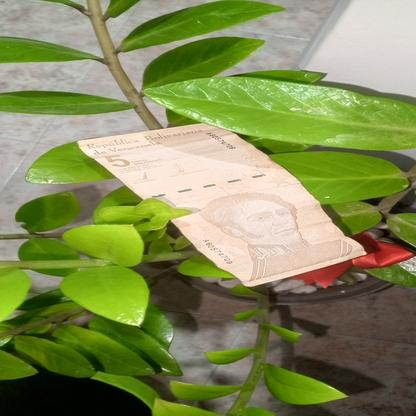five-front-vef: (76, 123, 367, 287)
